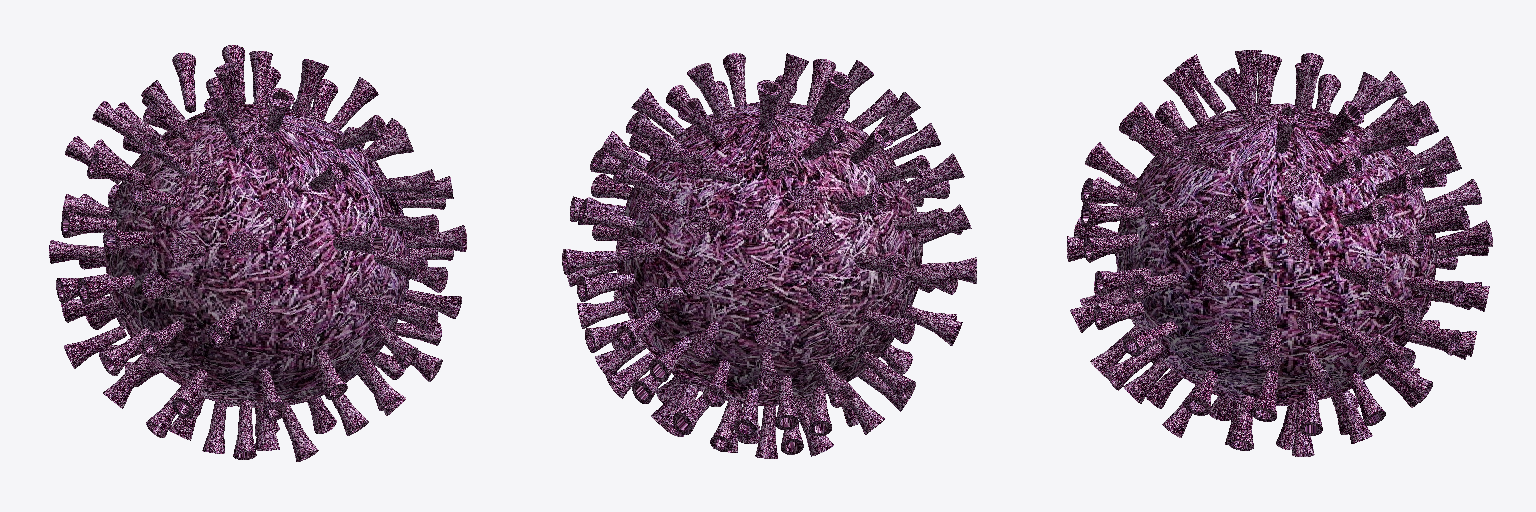
3 views of the same model, side by side, from view 1: azimuth 30°, elevation 25°; view 2: azimuth 150°, elevation 25°; view 3: azimuth 270°, elevation 25° (orthographic).
Parts seen in each view (by area): view 1: corona2_Cilindro.002; view 2: corona2_Cilindro.002; view 3: corona2_Cilindro.002.
Part boxes in pixels (left/top/right/bottom): corona2_Cilindro.002: left=49, top=45, right=466, bottom=461; corona2_Cilindro.002: left=562, top=53, right=976, bottom=458; corona2_Cilindro.002: left=1067, top=50, right=1492, bottom=456.
Size of the model in its own units: 1.78 by 1.75 by 1.83.
Materials: 1 (1 with a texture image).